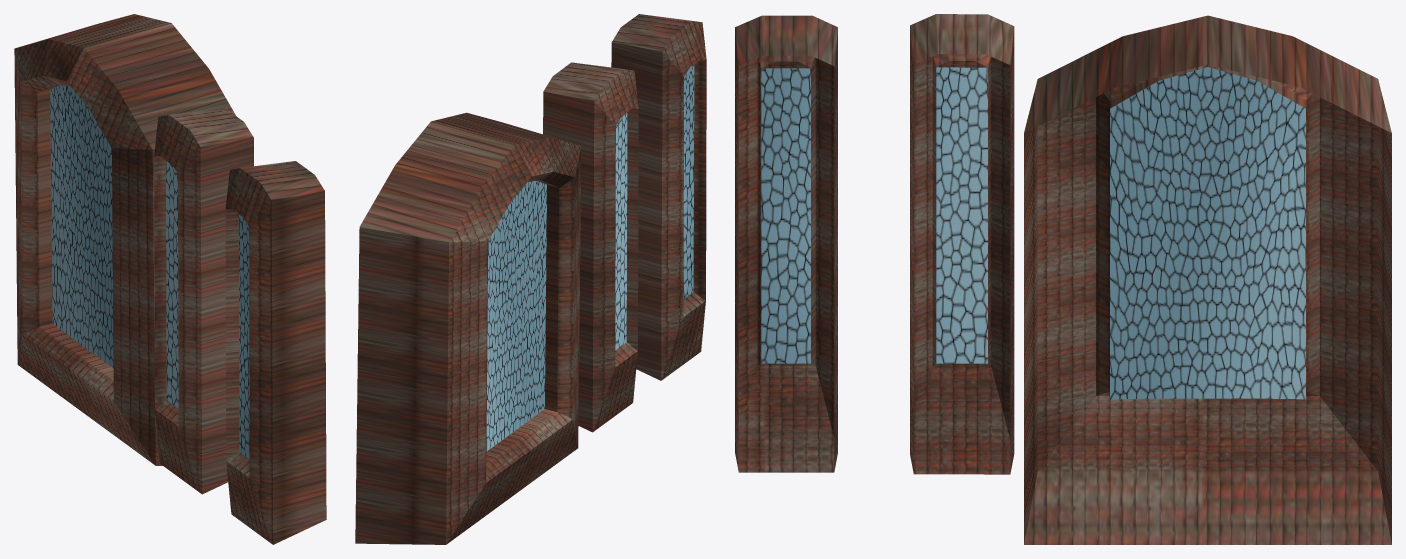
File: kosciol_okna_bok.fbx
The picture shows the model from 3 angles, left to right: view 1: azimuth 30°, elevation 25°; view 2: azimuth 150°, elevation 25°; view 3: azimuth 270°, elevation 25°; orthographic projection. The views are drawn at different scales.
Parts seen in each view (by area): view 1: oknabok; view 2: oknabok; view 3: oknabok.
Part boxes in pixels (x1,y1,x2,y2): oknabok: (14, 14, 326, 544); oknabok: (355, 14, 706, 544); oknabok: (735, 14, 1391, 544).
Bounding box in the file's own units: 336 × 1133 × 1412.
1 material, 1 textured.
